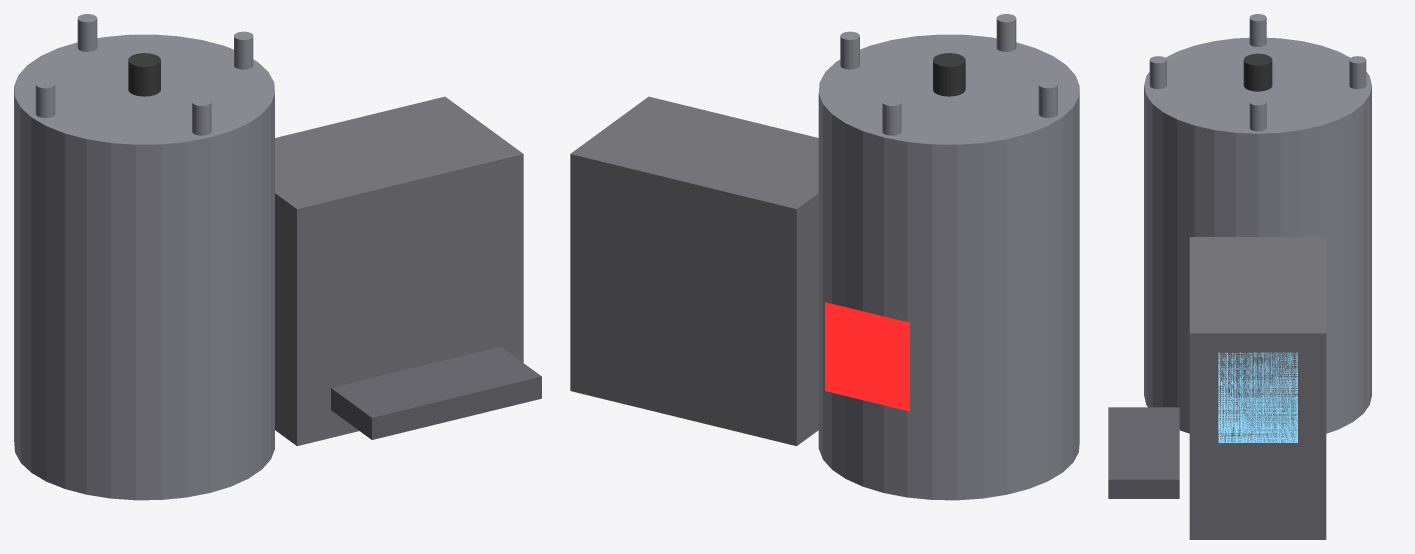
The model's file is nmr_spectrometer.glb.
3 renders of one model, left to right at view 1: azimuth 30°, elevation 25°; view 2: azimuth 150°, elevation 25°; view 3: azimuth 270°, elevation 25°, orthographic. The views are drawn at different scales.
Parts seen in each view (by area): view 1: NMR_Magnet_Housing, NMR_Console, NMR_Keyboard, NMR_Bore, NMR_Cryogen_Port_1, NMR_Cryogen_Port_2, NMR_Cryogen_Port_0, NMR_Cryogen_Port_3; view 2: NMR_Magnet_Housing, NMR_Console, NMR_Warning_Label, NMR_Bore, NMR_Cryogen_Port_3, NMR_Cryogen_Port_0, NMR_Cryogen_Port_1, NMR_Cryogen_Port_2; view 3: NMR_Magnet_Housing, NMR_Console, NMR_Display, NMR_Keyboard, NMR_Bore, NMR_Cryogen_Port_0, NMR_Cryogen_Port_1, NMR_Cryogen_Port_3, NMR_Cryogen_Port_2.
Boxes of the visible parts, <box> form: NMR_Magnet_Housing: <box>14,34,274,500</box>; NMR_Console: <box>275,96,523,446</box>; NMR_Keyboard: <box>331,346,541,439</box>; NMR_Bore: <box>128,53,160,96</box>; NMR_Cryogen_Port_1: <box>77,14,97,51</box>; NMR_Cryogen_Port_2: <box>35,80,55,117</box>; NMR_Cryogen_Port_0: <box>234,31,253,69</box>; NMR_Cryogen_Port_3: <box>192,97,211,135</box>; NMR_Magnet_Housing: <box>818,34,1079,500</box>; NMR_Console: <box>570,96,818,446</box>; NMR_Warning_Label: <box>825,302,909,411</box>; NMR_Bore: <box>933,53,965,96</box>; NMR_Cryogen_Port_3: <box>996,14,1016,51</box>; NMR_Cryogen_Port_0: <box>840,31,859,69</box>; NMR_Cryogen_Port_1: <box>882,97,901,135</box>; NMR_Cryogen_Port_2: <box>1038,80,1057,117</box>; NMR_Magnet_Housing: <box>1144,37,1371,433</box>; NMR_Console: <box>1189,237,1326,539</box>; NMR_Display: <box>1218,352,1297,442</box>; NMR_Keyboard: <box>1108,407,1179,498</box>; NMR_Bore: <box>1243,53,1272,91</box>; NMR_Cryogen_Port_0: <box>1249,98,1266,131</box>; NMR_Cryogen_Port_1: <box>1349,56,1366,89</box>; NMR_Cryogen_Port_3: <box>1149,56,1166,89</box>; NMR_Cryogen_Port_2: <box>1249,14,1266,46</box>.
Bounding box in the file's own units: 1.6 × 1.55 × 1.03.
